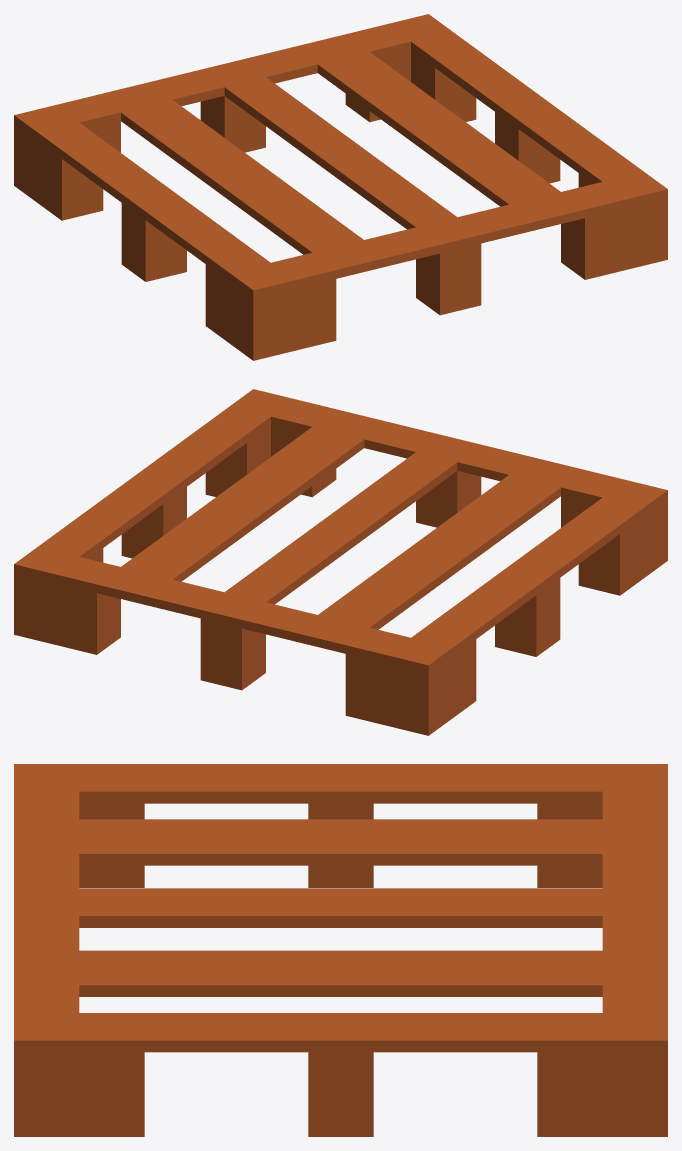
File: pallet.glb
The picture shows the model from 3 angles, top to bottom: view 1: azimuth 30°, elevation 25°; view 2: azimuth 150°, elevation 25°; view 3: azimuth 270°, elevation 25°; orthographic projection. The views are drawn at different scales.
Parts seen in each view (by area): view 1: Pallet; view 2: Pallet; view 3: Pallet.
Boxes of the visible parts, left/top/right/bottom form: Pallet: left=14, top=14, right=667, bottom=360; Pallet: left=14, top=389, right=667, bottom=735; Pallet: left=14, top=764, right=667, bottom=1136.
Size of what is drawn, in the model's own units: 1.17 by 0.1909 by 1.17.
